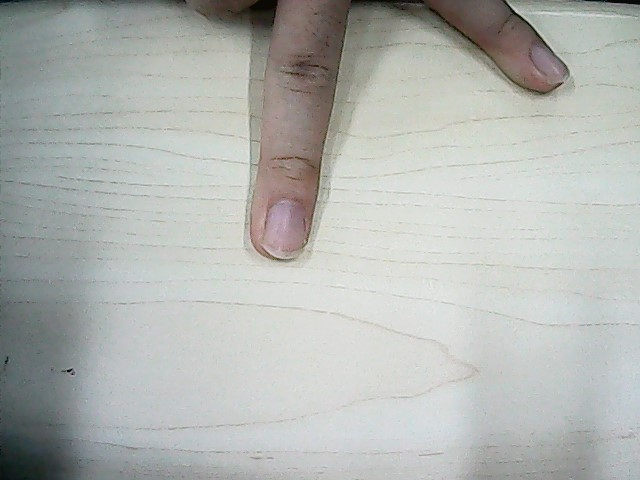nail: (261, 196, 308, 259), (528, 44, 572, 87)
